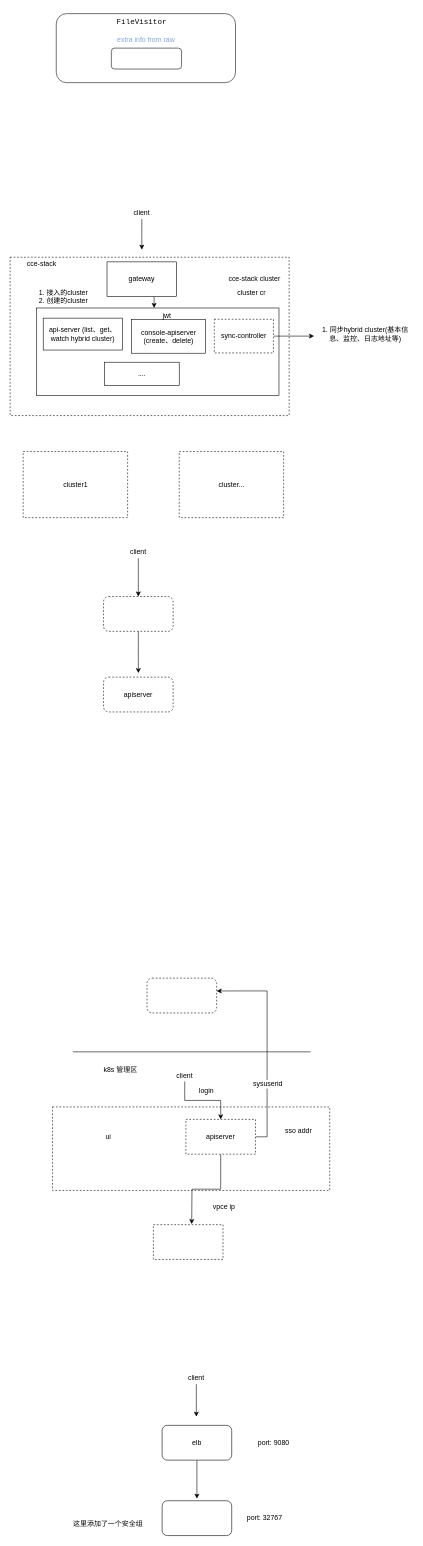
Some shapes in this 423 by 1546 pixel diagram are drawn without their labels. The centre of each missing label's shape, as x and y in pixels:
app: the point at 197,1518
openapi: the point at 188,1241
sso: the point at 181,995
StreamVisitor: the point at 146,58
ws: the point at 138,613
